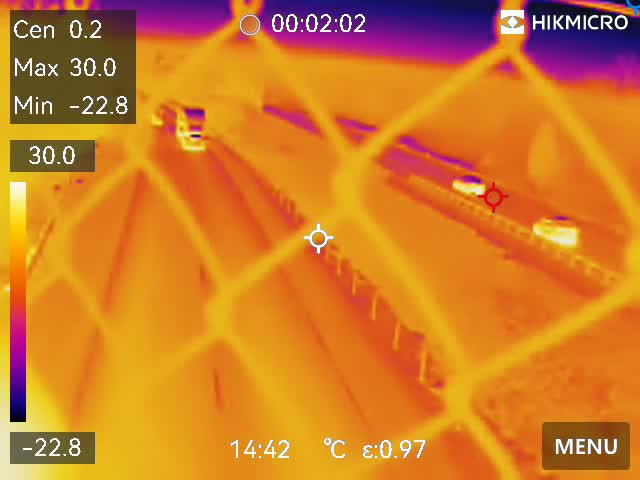heavyTruck: (174, 101, 211, 157)
vehicle: (531, 215, 582, 248), (450, 172, 494, 201)
